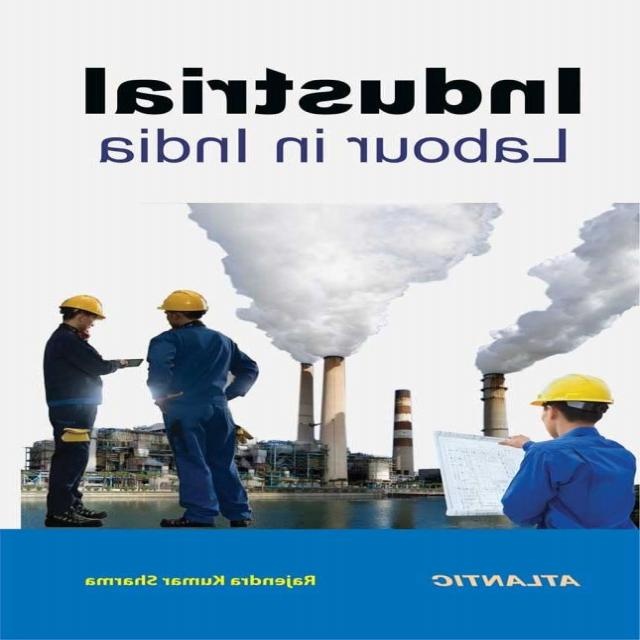Safety-Helmet: (526, 369, 617, 408), (55, 290, 112, 322), (153, 286, 212, 314)
